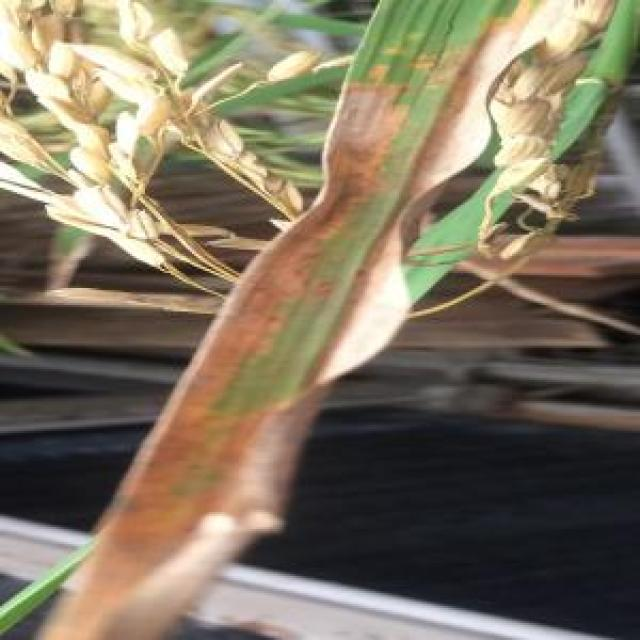Bacterial_Blight: (43, 0, 617, 640)
Brown_Spot: (463, 23, 597, 272)
